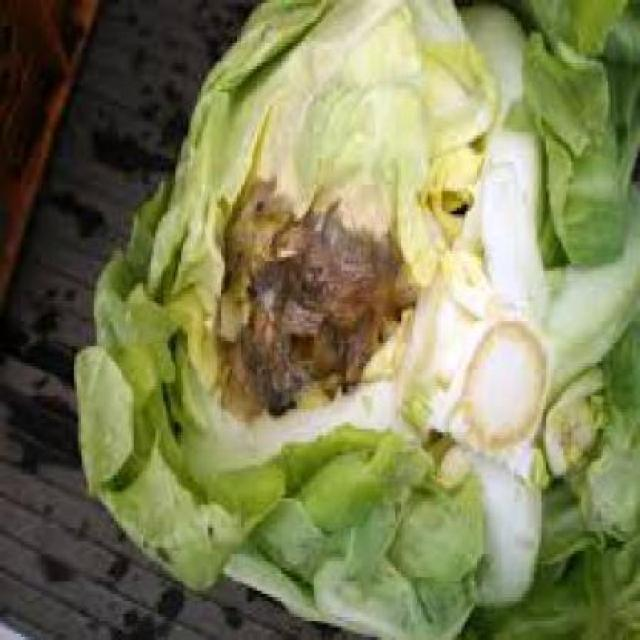BIODEGRADABLE: (68, 0, 638, 637)
